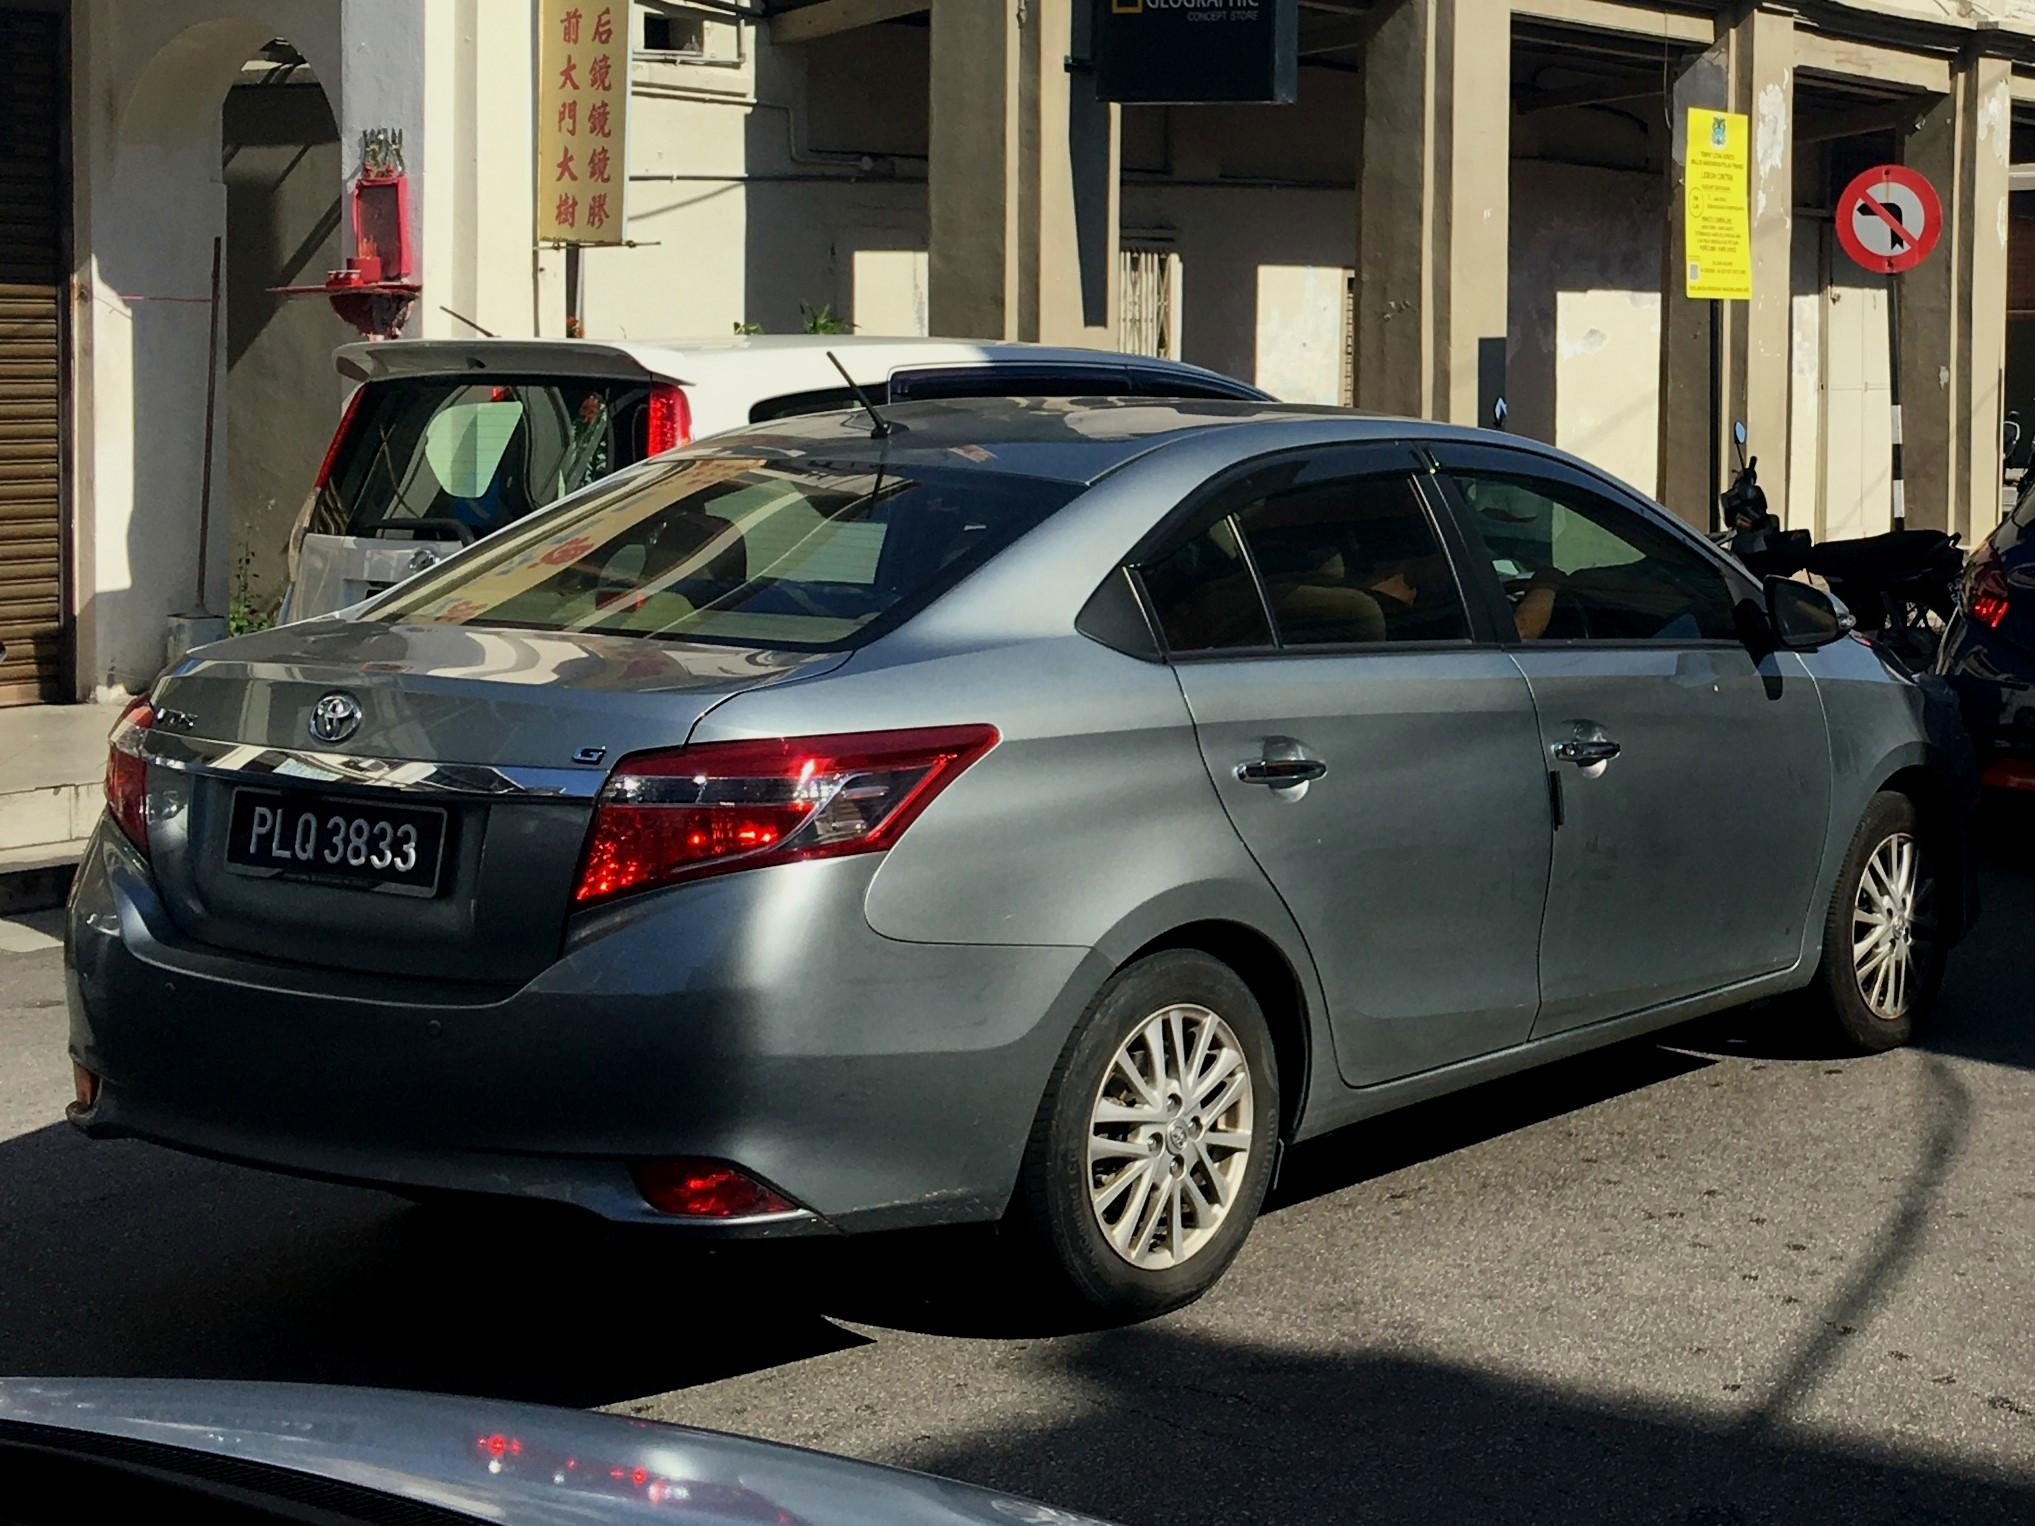License Plate: (227, 791, 448, 888)
